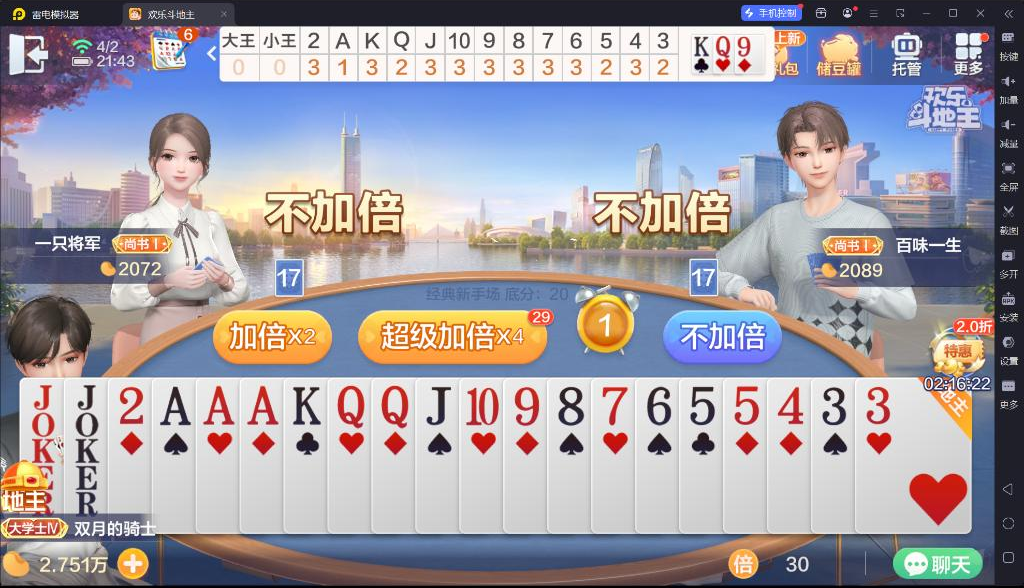A: (156, 382, 193, 429), (244, 382, 280, 428), (201, 383, 236, 429)
J: (420, 383, 454, 427)
JOKER: (28, 381, 61, 470)
K: (288, 383, 324, 428), (693, 35, 710, 58)
Q: (377, 382, 411, 430), (333, 382, 367, 430)
eight: (553, 384, 585, 428)
five: (686, 383, 718, 427), (729, 383, 761, 426)
four: (774, 381, 806, 427)
joker: (70, 382, 104, 469)
nine: (508, 384, 542, 427), (715, 35, 732, 59), (736, 36, 752, 58)
seven: (597, 384, 629, 427)
six: (642, 384, 674, 427)
ten: (463, 384, 499, 428)
three: (819, 384, 849, 428), (862, 383, 892, 426)
two: (115, 383, 148, 429)
